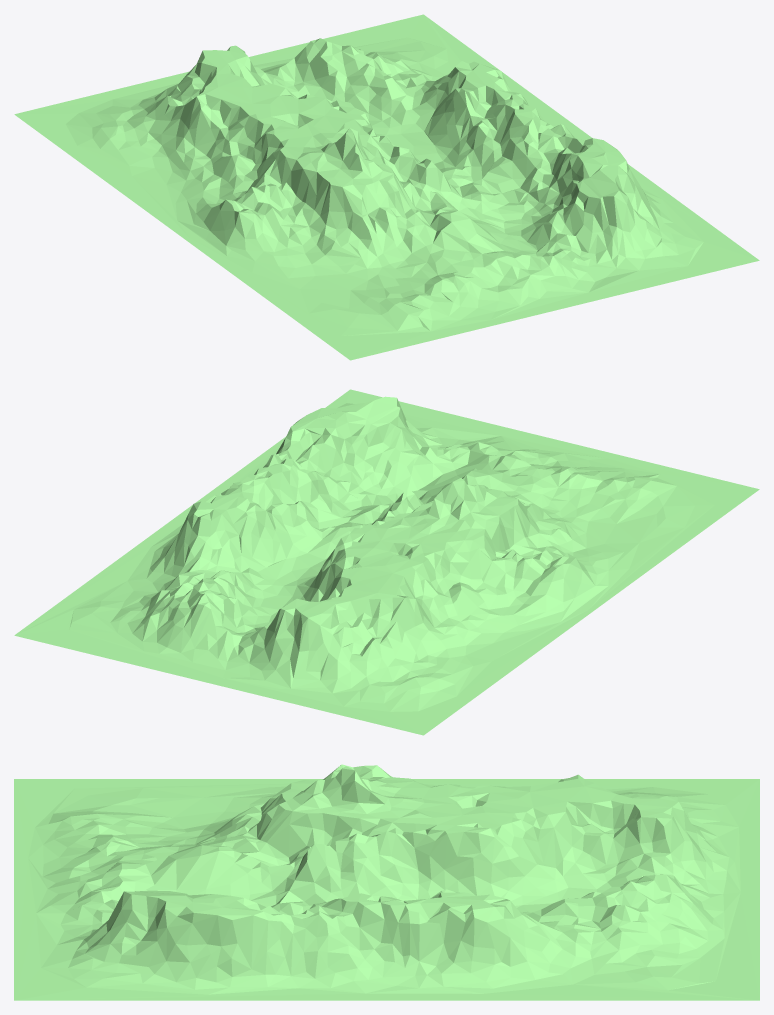
File: 背景_mountain.fbx
3 renders of one model, top to bottom at view 1: azimuth 30°, elevation 25°; view 2: azimuth 150°, elevation 25°; view 3: azimuth 270°, elevation 25°, orthographic. The views are drawn at different scales.
Visible parts, largest first — view 1: Landscape; view 2: Landscape; view 3: Landscape.
Part boxes in pixels (<box>): Landscape: <box>14,14,759,360</box>; Landscape: <box>14,389,759,735</box>; Landscape: <box>14,764,759,1000</box>.
Bounding box in the file's own units: 62645 × 12499 × 89096.
